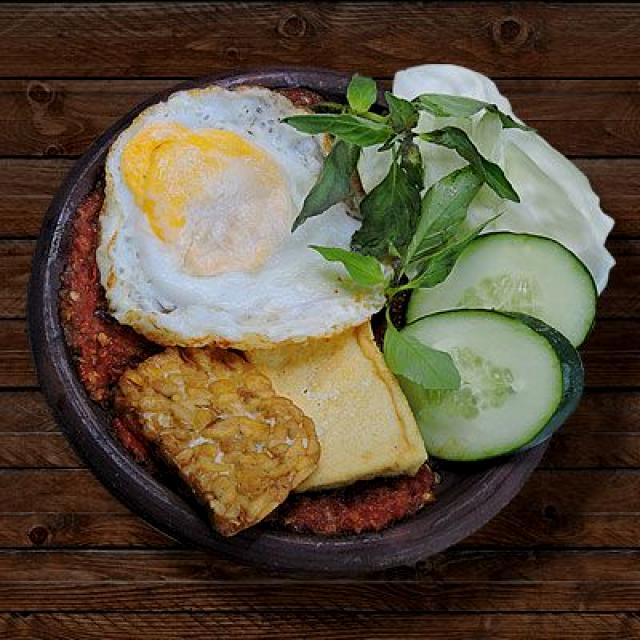telur ceplok: (99, 86, 390, 344)
tempe goreng: (118, 347, 322, 539)
